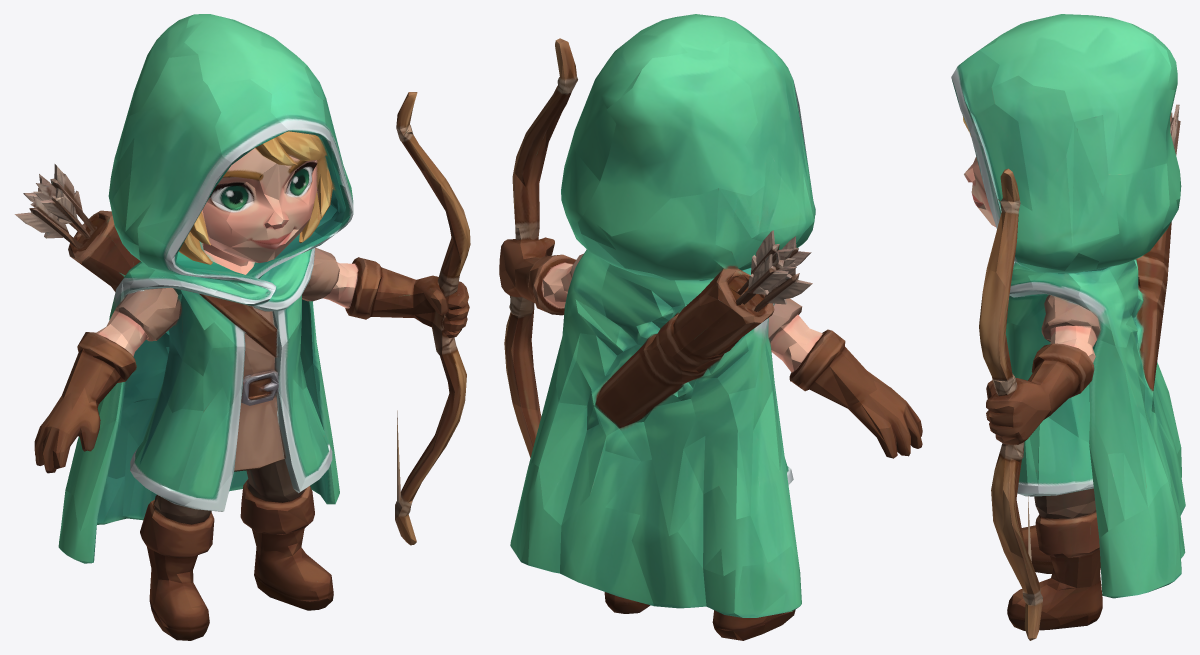
The model's file is Hero_Archer.fbx.
3 views of the same model, side by side, from view 1: azimuth 30°, elevation 25°; view 2: azimuth 150°, elevation 25°; view 3: azimuth 270°, elevation 25° (orthographic). The views are drawn at different scales.
Visible parts, largest first — view 1: output_unwrapped; view 2: output_unwrapped; view 3: output_unwrapped.
Boxes of the visible parts, bbox=[...] form: output_unwrapped: bbox=[14, 14, 470, 640]; output_unwrapped: bbox=[499, 14, 922, 640]; output_unwrapped: bbox=[951, 14, 1185, 640].
Bounding box in the file's own units: 143 × 190 × 70.37.
Materials: 1 (1 with a texture image).
